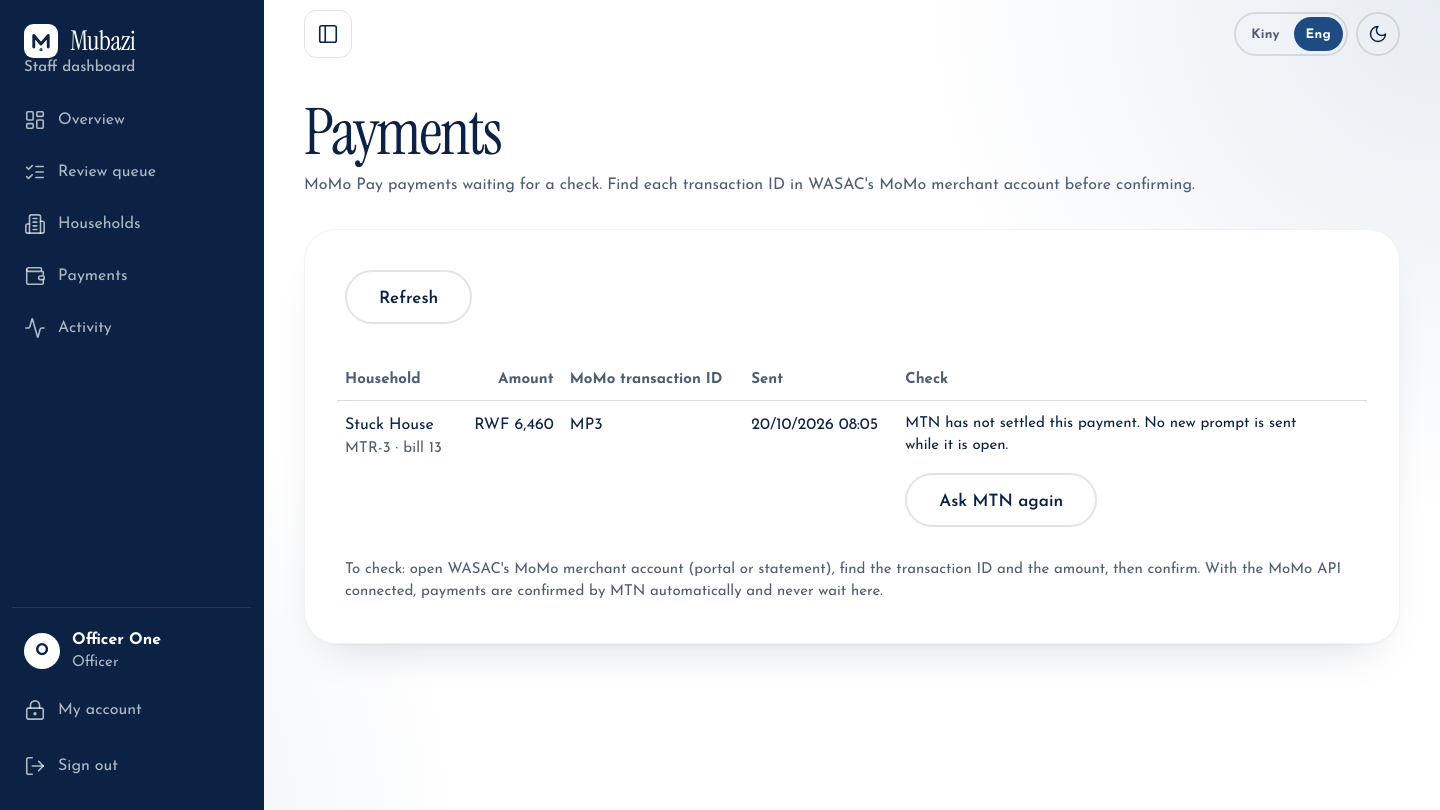
Test: Payments › when an MTN payment is stuck, an officer can only ask MTN again
Click the button "Ask MTN again".
click(1001, 500)  # box [905,473,1097,527]
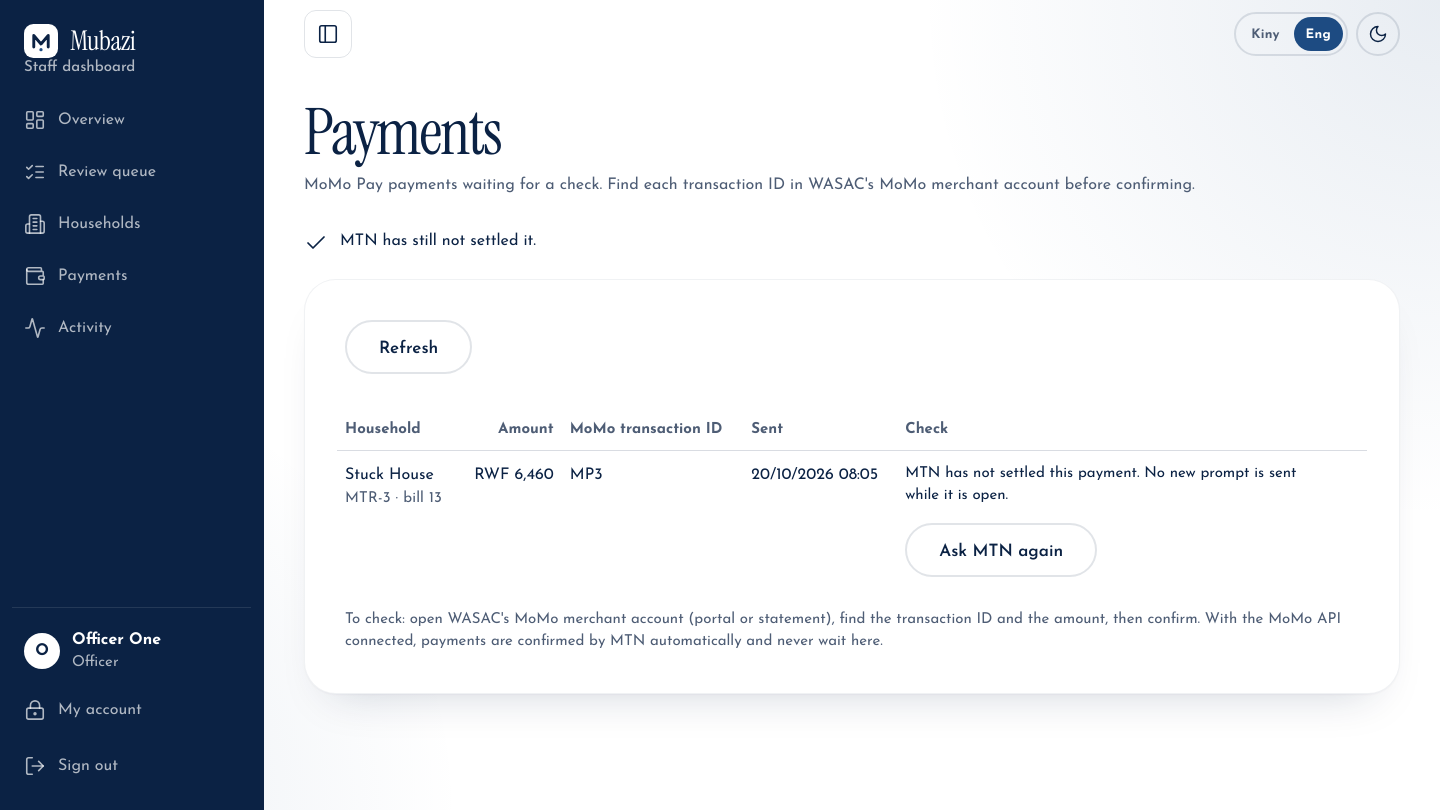
Check: the text "MTN has still not settled it." is shown, box [340,233,536,249]
